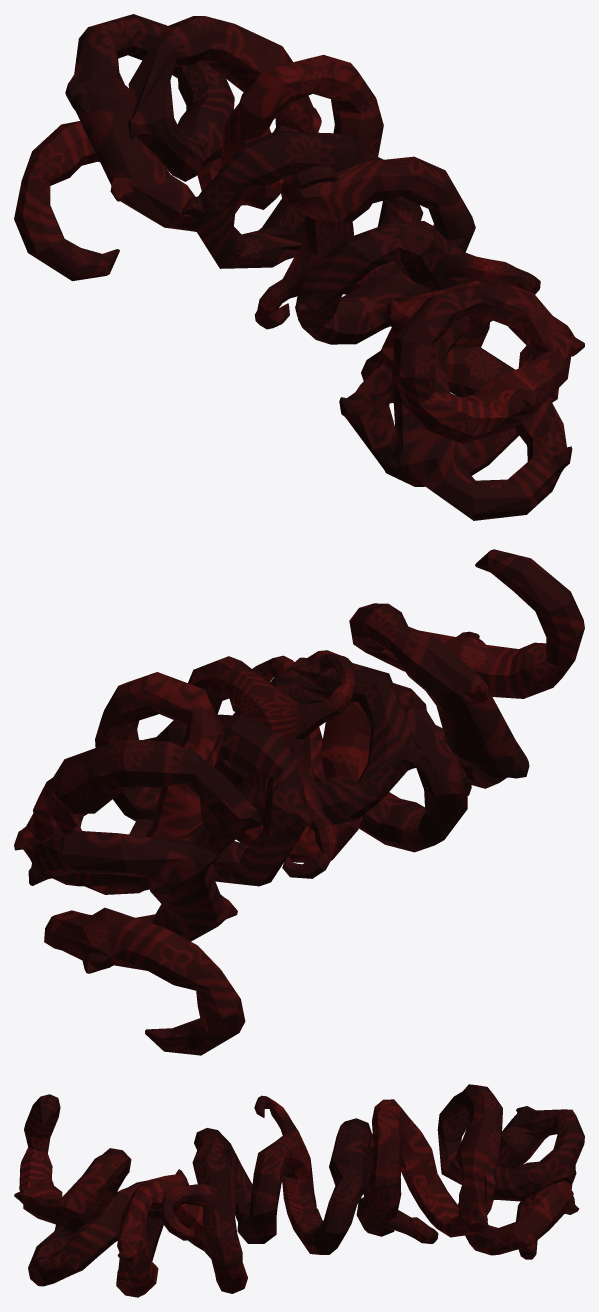
File: PROP_brumble_rotanti.FBX
The picture shows the model from 3 angles, top to bottom: view 1: azimuth 30°, elevation 25°; view 2: azimuth 150°, elevation 25°; view 3: azimuth 270°, elevation 25°; orthographic projection. The views are drawn at different scales.
Parts seen in each view (by area): view 1: brambleDEF_orizzontale; view 2: brambleDEF_orizzontale; view 3: brambleDEF_orizzontale.
Boxes of the visible parts, x1=… form: brambleDEF_orizzontale: x1=14, y1=14, x2=584, y2=520; brambleDEF_orizzontale: x1=14, y1=549, x2=584, y2=1055; brambleDEF_orizzontale: x1=14, y1=1084, x2=584, y2=1297.
Bounding box in the file's own units: 3.77 × 3.84 × 9.92.
